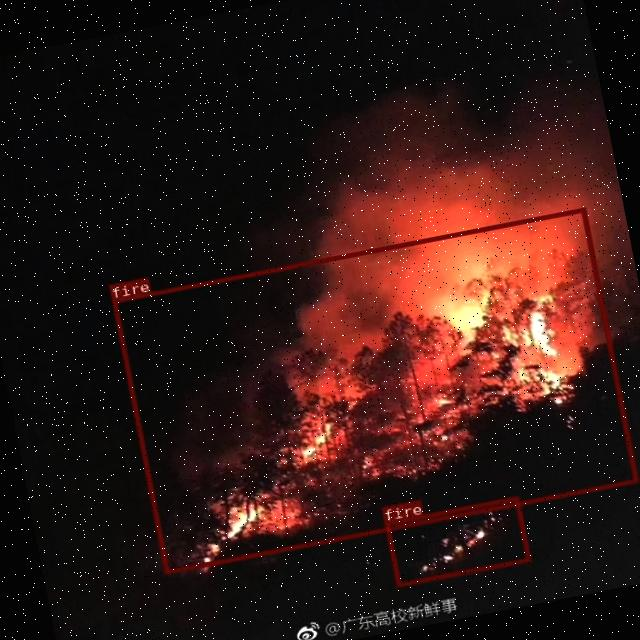fire: (111, 207, 638, 574), (384, 495, 530, 587)
